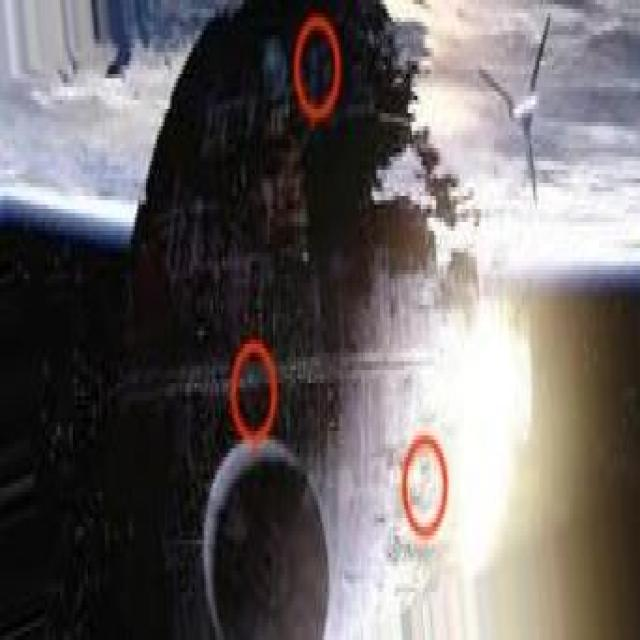deathstar: (117, 0, 530, 634)
